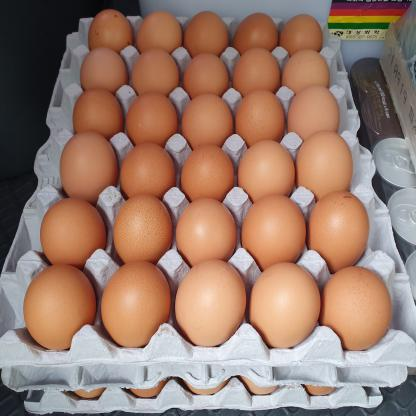egg: (164, 255, 252, 363), (94, 254, 176, 361), (242, 263, 327, 358), (16, 259, 98, 357), (310, 268, 398, 352), (304, 180, 372, 288), (177, 192, 257, 275), (58, 122, 140, 202), (286, 127, 370, 200), (233, 76, 304, 152), (234, 191, 315, 255), (27, 190, 97, 264), (112, 196, 171, 280), (177, 140, 241, 209), (239, 138, 302, 207), (176, 84, 233, 154), (130, 42, 194, 99), (118, 91, 176, 151), (108, 152, 173, 204), (76, 36, 126, 100), (296, 88, 353, 144), (289, 51, 356, 94), (229, 17, 285, 64), (68, 89, 119, 140), (77, 13, 137, 53), (185, 59, 236, 106), (142, 11, 182, 58), (242, 52, 286, 92), (285, 21, 327, 60), (188, 18, 226, 50)
